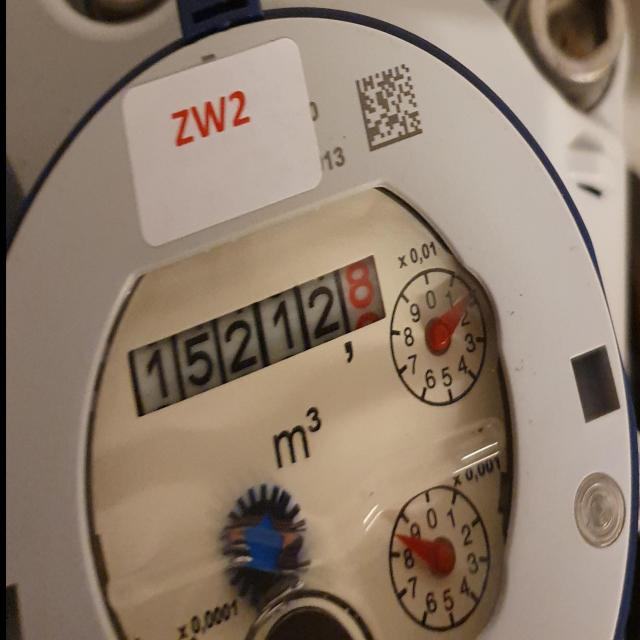gaz_meter: (82, 173, 519, 640)
indication: (122, 244, 387, 424)
